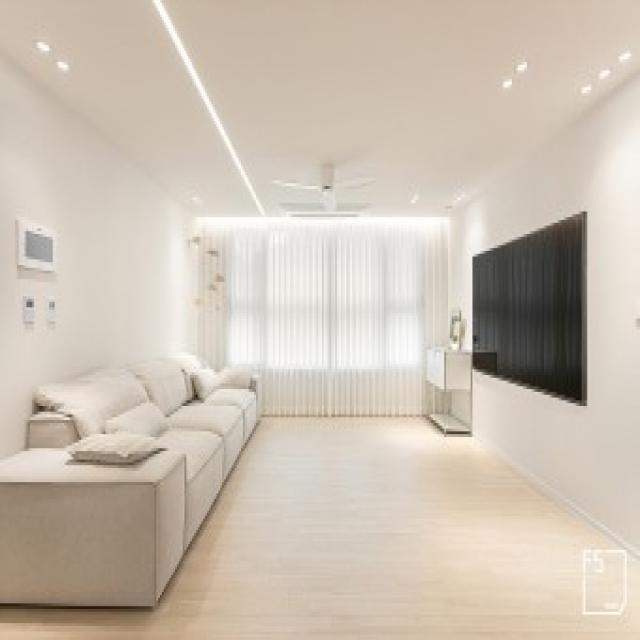Sofa: (0, 350, 258, 603)
tv: (471, 213, 589, 402)
window: (195, 220, 436, 360)
